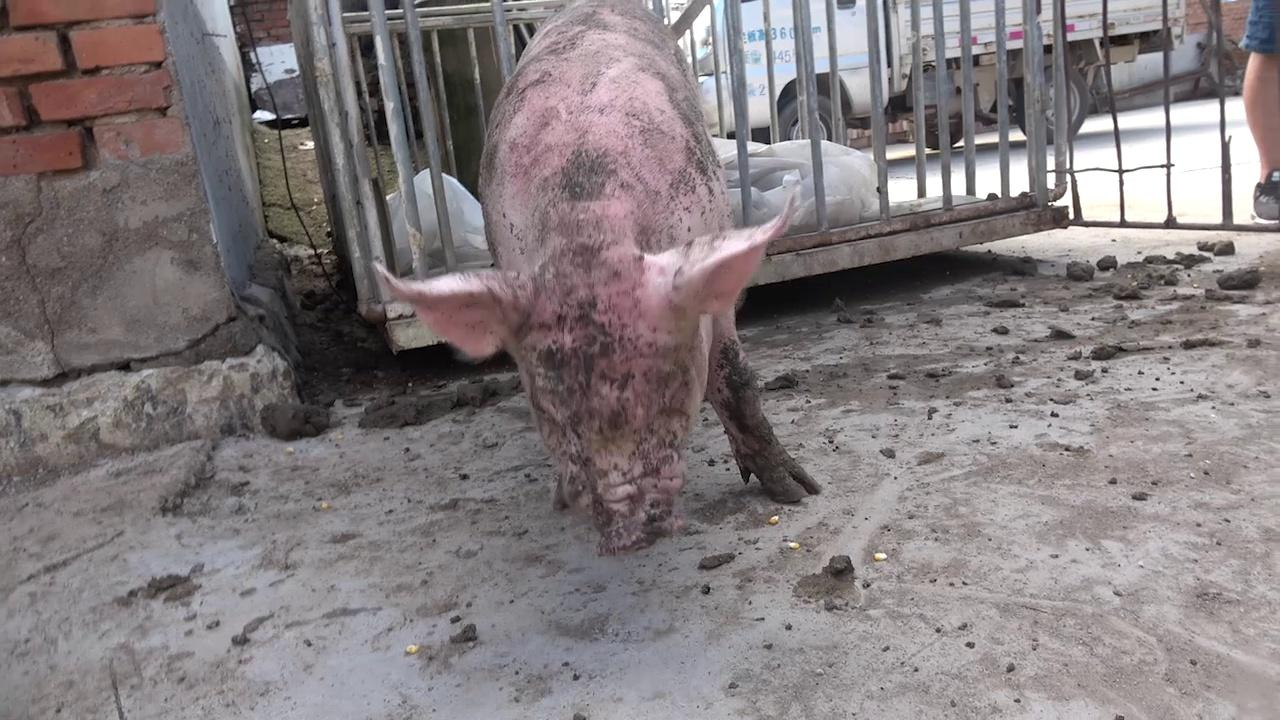Face: (362, 195, 827, 556)
